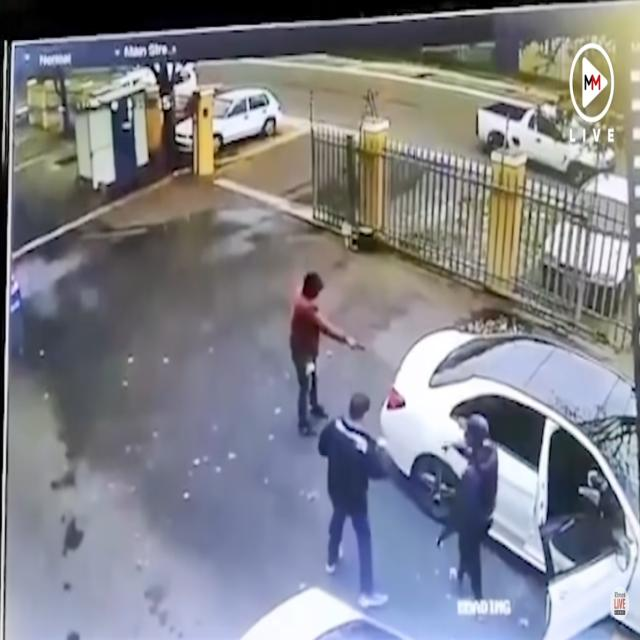FPistol: (348, 337, 369, 352)
